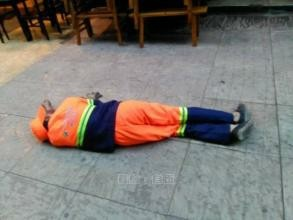falling: (29, 83, 255, 156)
